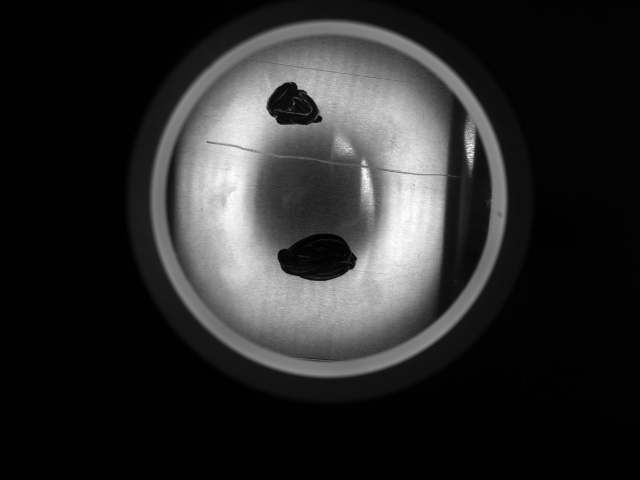ca_shang: (205, 139, 467, 181), (249, 59, 445, 88)
zang_wu: (273, 230, 358, 282), (264, 81, 324, 127)
